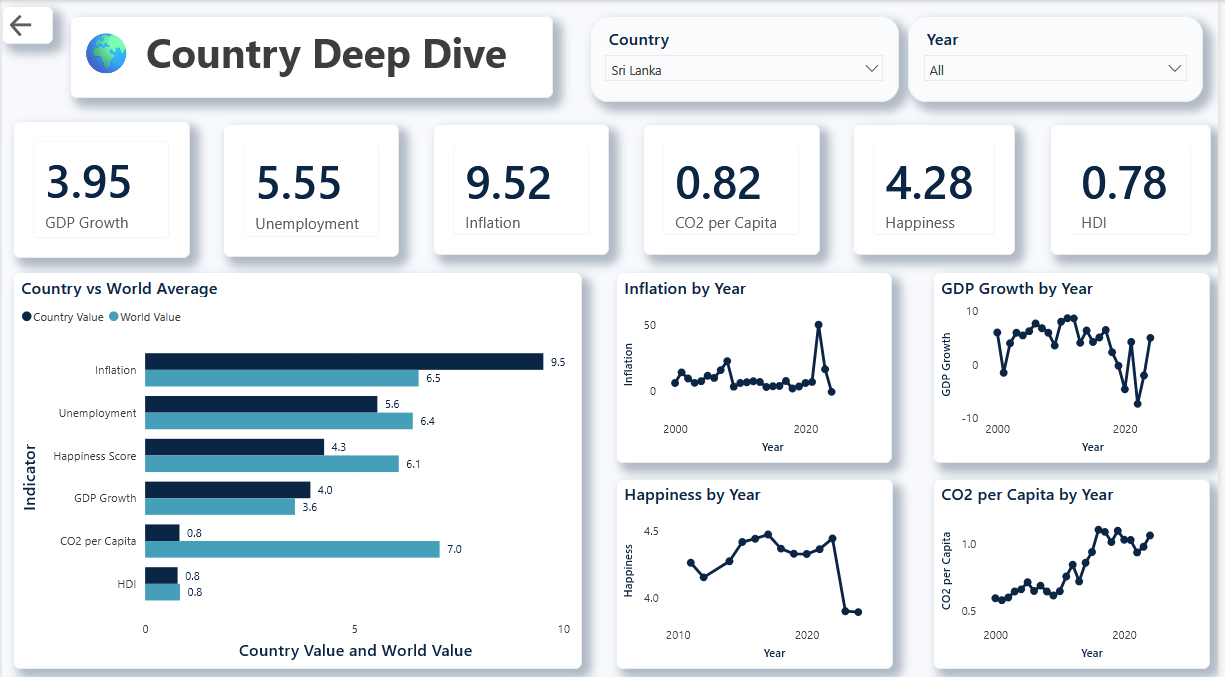

The page's visual inventory and layout, read from the dashboard file:
{"tool":"powerbi","page":{"name":"🌍 Country Deep Dive","canvas":[1280,720],"ordinal":4},"visuals":[{"type":"textbox","box":[71.4,16.5,509.1,86.4],"z":0},{"type":"slicer","fields":{"Values":["Dim_Country.Country"]},"box":[618.6,17.1,325.7,90],"z":1000},{"type":"slicer","fields":{"Values":["Dim_Year.Year"]},"box":[954.3,17.1,310,90],"z":2000},{"type":"cardVisual","title":"Total GDP","fields":{"Data":["Measure Table.Average GDP Growth"]},"box":[12,127.7,185.7,144.3],"z":4000},{"type":"cardVisual","title":"Total GDP","fields":{"Data":["Measure Table.Average CO₂ Per Capita"]},"box":[674.9,130.6,185.7,138.6],"z":5000},{"type":"cardVisual","title":"Total GDP","fields":{"Data":["Measure Table.Inflation"]},"box":[454.1,130.6,185,138.6],"z":6000},{"type":"cardVisual","title":"Total GDP","fields":{"Data":["Measure Table.Average Unemployment"]},"box":[233.4,129.9,185,140],"z":7000},{"type":"cardVisual","title":"Total GDP","fields":{"Data":["Measure Table.HDI"]},"box":[1102,130.6,170,138.6],"z":8000},{"type":"cardVisual","title":"Total GDP","fields":{"Data":["Measure Table.Happiness"]},"box":[896.3,130.6,170,138.6],"z":9000},{"type":"clusteredBarChart","title":"Country vs World Average","fields":{"Category":["Comparison Indicators.Indicator"],"Y":["Measure Table.Country Value","Measure Table.World Value"]},"box":[11.4,287.1,598.6,417.1],"z":10000},{"type":"lineChart","fields":{"Category":["Dim_Year.Year"],"Y":["Measure Table.GDP Growth"]},"box":[980,287.1,291.4,200],"z":11000},{"type":"lineChart","fields":{"Category":["Dim_Year.Year"],"Y":["Measure Table.Inflation"]},"box":[645.7,287.1,291,200],"z":12000},{"type":"lineChart","fields":{"Category":["Dim_Year.Year"],"Y":["Measure Table.CO2 per Capita"]},"box":[980,504.3,291.4,200],"z":13000},{"type":"lineChart","fields":{"Category":["Dim_Year.Year"],"Y":["Measure Table.Happiness"]},"box":[645.7,504.3,291.4,200],"z":14000},{"type":"actionButton","box":[0,6.9,53.5,39.8],"z":14001}]}

Visuals, with their boxes in screenshot pixels (x1, y1, x2, y2), scaled from the page's 1280x720 canvas onto the 1225x677 screenshot:
textbox: x1=68, y1=16, x2=556, y2=97
slicer - Dim_Country.Country: x1=592, y1=16, x2=904, y2=101
slicer - Dim_Year.Year: x1=913, y1=16, x2=1210, y2=101
"Total GDP" cardVisual: x1=11, y1=120, x2=189, y2=256
"Total GDP" cardVisual: x1=646, y1=123, x2=824, y2=253
"Total GDP" cardVisual: x1=435, y1=123, x2=612, y2=253
"Total GDP" cardVisual: x1=223, y1=122, x2=400, y2=254
"Total GDP" cardVisual: x1=1055, y1=123, x2=1217, y2=253
"Total GDP" cardVisual: x1=858, y1=123, x2=1020, y2=253
"Country vs World Average" clusteredBarChart: x1=11, y1=270, x2=584, y2=662
lineChart - Dim_Year.Year x Measure Table.GDP Growth: x1=938, y1=270, x2=1217, y2=458
lineChart - Dim_Year.Year x Measure Table.Inflation: x1=618, y1=270, x2=896, y2=458
lineChart - Dim_Year.Year x Measure Table.CO2 per Capita: x1=938, y1=474, x2=1217, y2=662
lineChart - Dim_Year.Year x Measure Table.Happiness: x1=618, y1=474, x2=897, y2=662
actionButton: x1=0, y1=6, x2=51, y2=44
